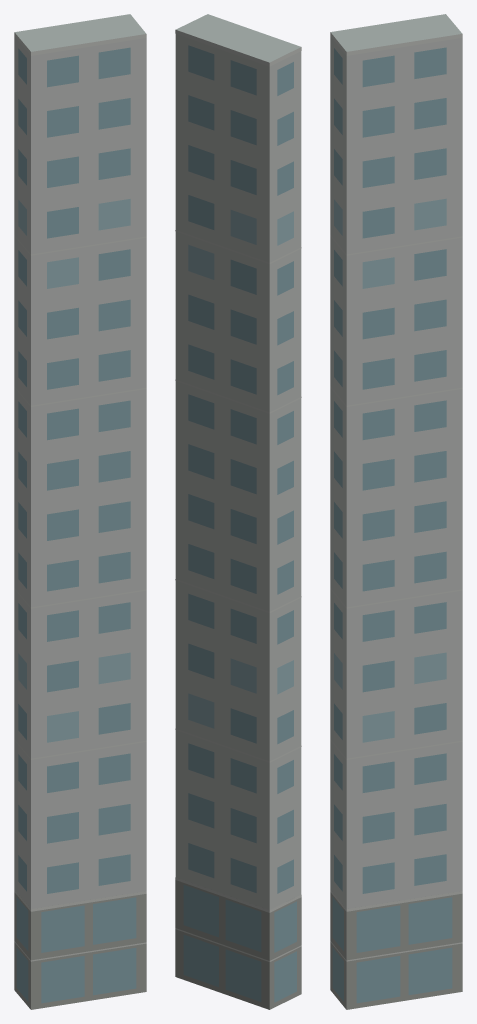
File: survey-upis-32987297.glb
3 renders of one model, left to right at view 1: azimuth 90°, elevation 25°; view 2: azimuth 210°, elevation 25°; view 3: azimuth 270°, elevation 25°, orthographic.
Visible parts, largest first — view 1: survey-upis-32987297.tmp; view 2: survey-upis-32987297.tmp; view 3: survey-upis-32987297.tmp.
Part boxes in pixels (bbox=[...]): survey-upis-32987297.tmp: bbox=[14, 14, 146, 1009]; survey-upis-32987297.tmp: bbox=[175, 14, 301, 1009]; survey-upis-32987297.tmp: bbox=[330, 14, 462, 1009].
Size of the model in its own units: 4.94 by 57.95 by 7.27.
